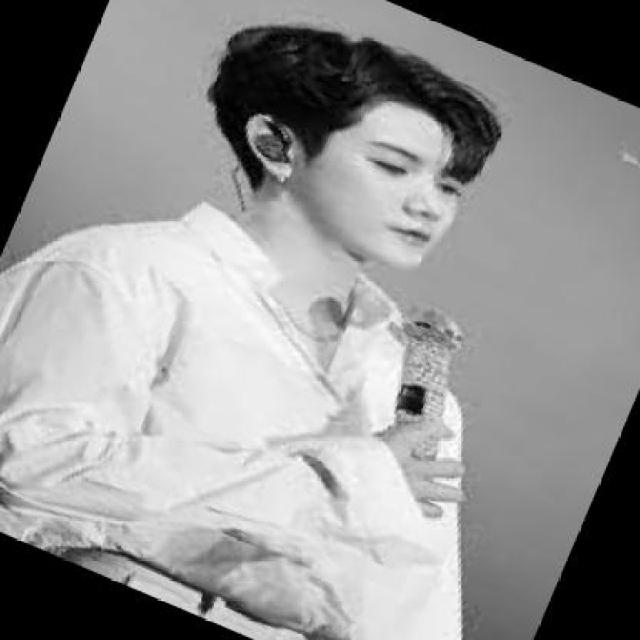earphone: (235, 126, 309, 170)
